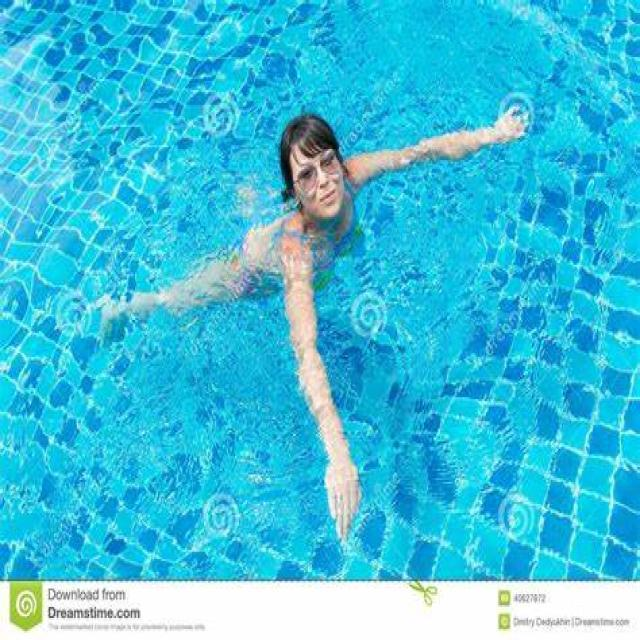Swimming: (97, 115, 542, 528)
